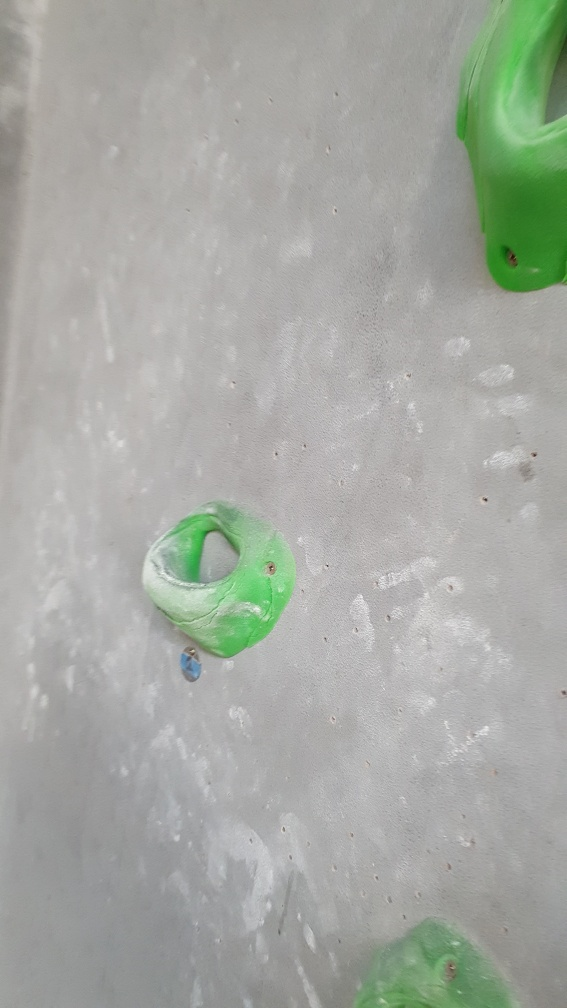Hand Start: (181, 648, 205, 688)
Pocket: (445, 1, 566, 300), (144, 497, 301, 665)
